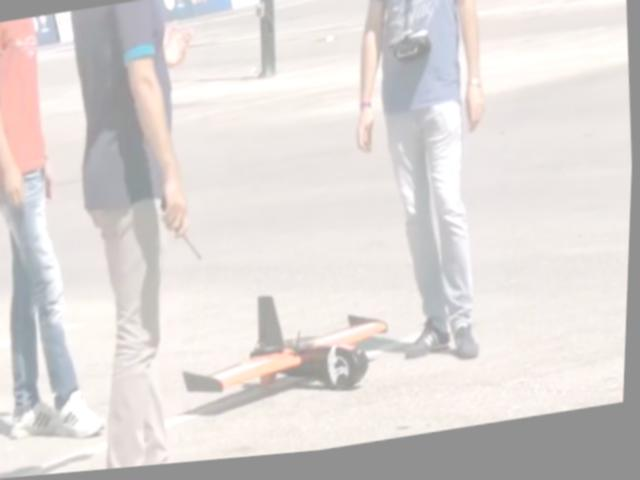uav: (171, 269, 401, 441)
